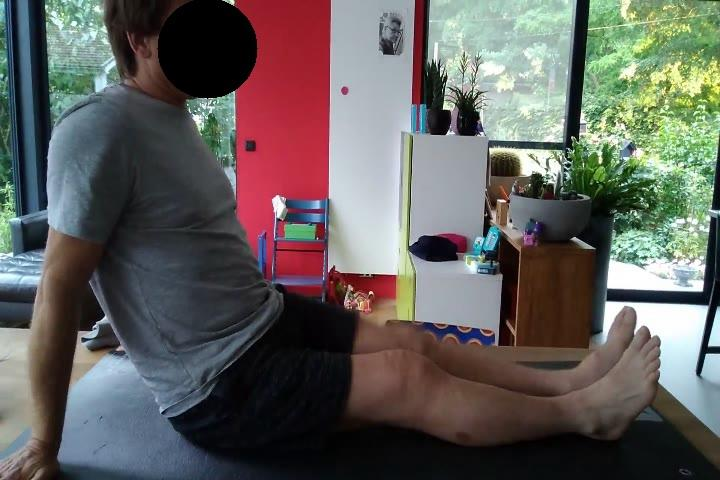lower_body: (170, 302, 664, 451)
